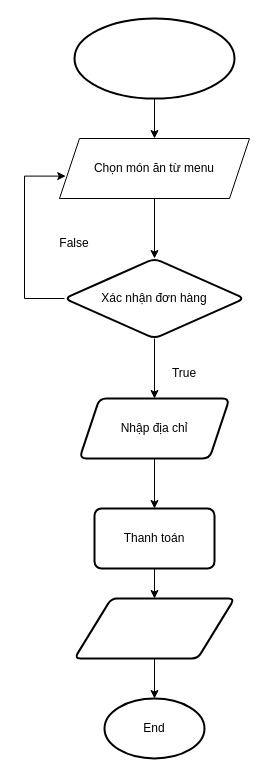
The diagram is 267 pixels wide and 776 high, and some of its shapes have lost their labels. The box of each missing label's shape, as (x1, y1, x2, y2) in pixels:
Nhận món ăn: (73, 597, 235, 659)
Start: (73, 17, 235, 99)
